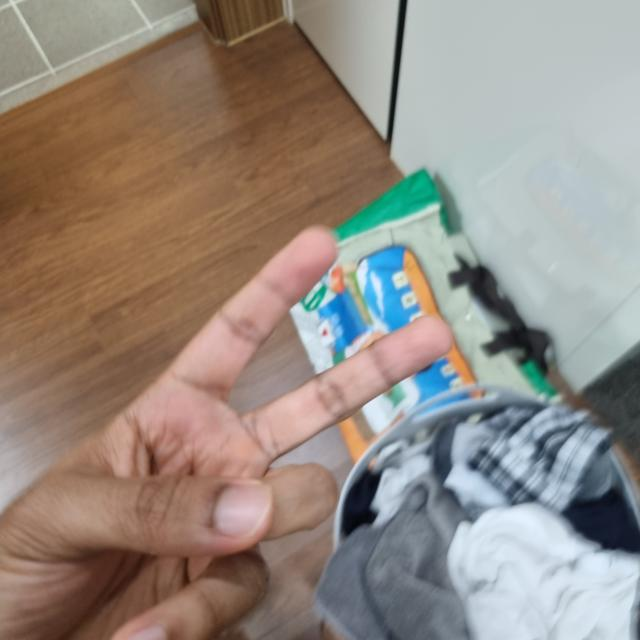Scissors: (0, 235, 469, 640)
